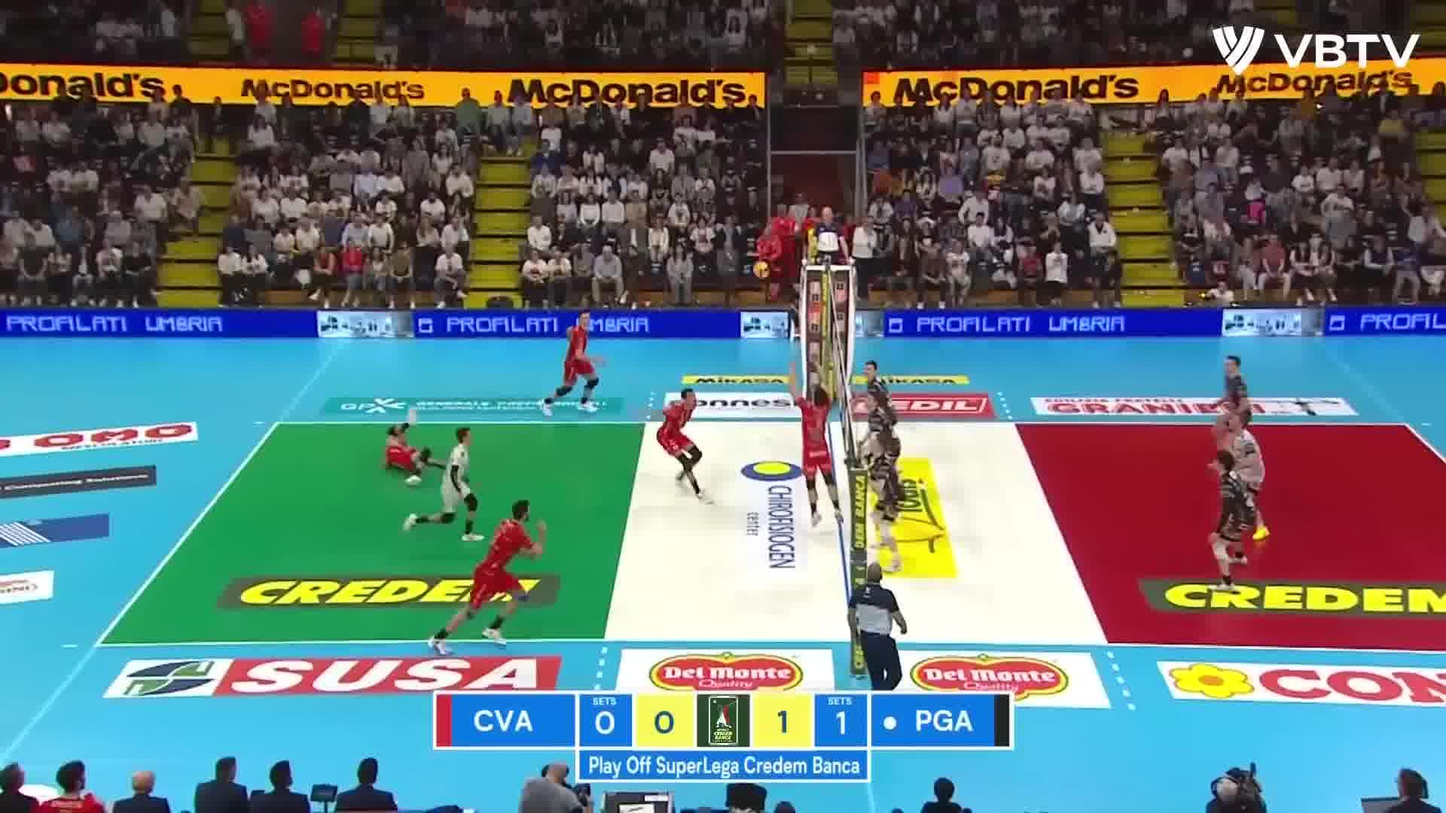balls: (749, 260, 773, 282)
